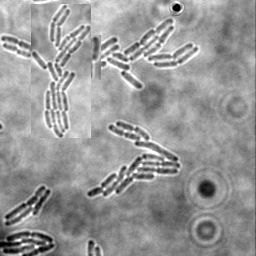Dividing: (1, 34, 31, 52), (3, 41, 31, 57)
Microcolony: (31, 4, 91, 138), (92, 18, 199, 89), (87, 120, 181, 197), (5, 184, 52, 226), (1, 230, 56, 255), (77, 35, 101, 80)
